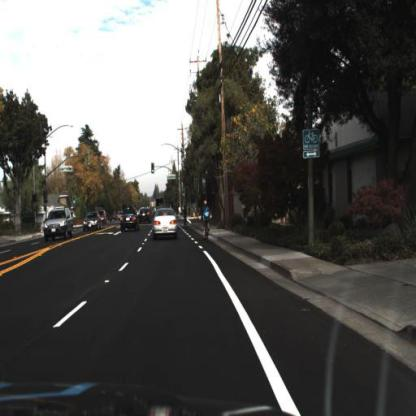biker: (200, 204, 213, 246), (202, 198, 212, 242)
car: (41, 206, 77, 242), (43, 208, 76, 241), (152, 205, 179, 241), (117, 207, 141, 238), (155, 208, 178, 238), (119, 209, 142, 234), (82, 208, 104, 234), (81, 211, 101, 236), (98, 207, 108, 228)
trafficLight-Green: (149, 159, 158, 177), (181, 184, 188, 202), (151, 162, 157, 179)
